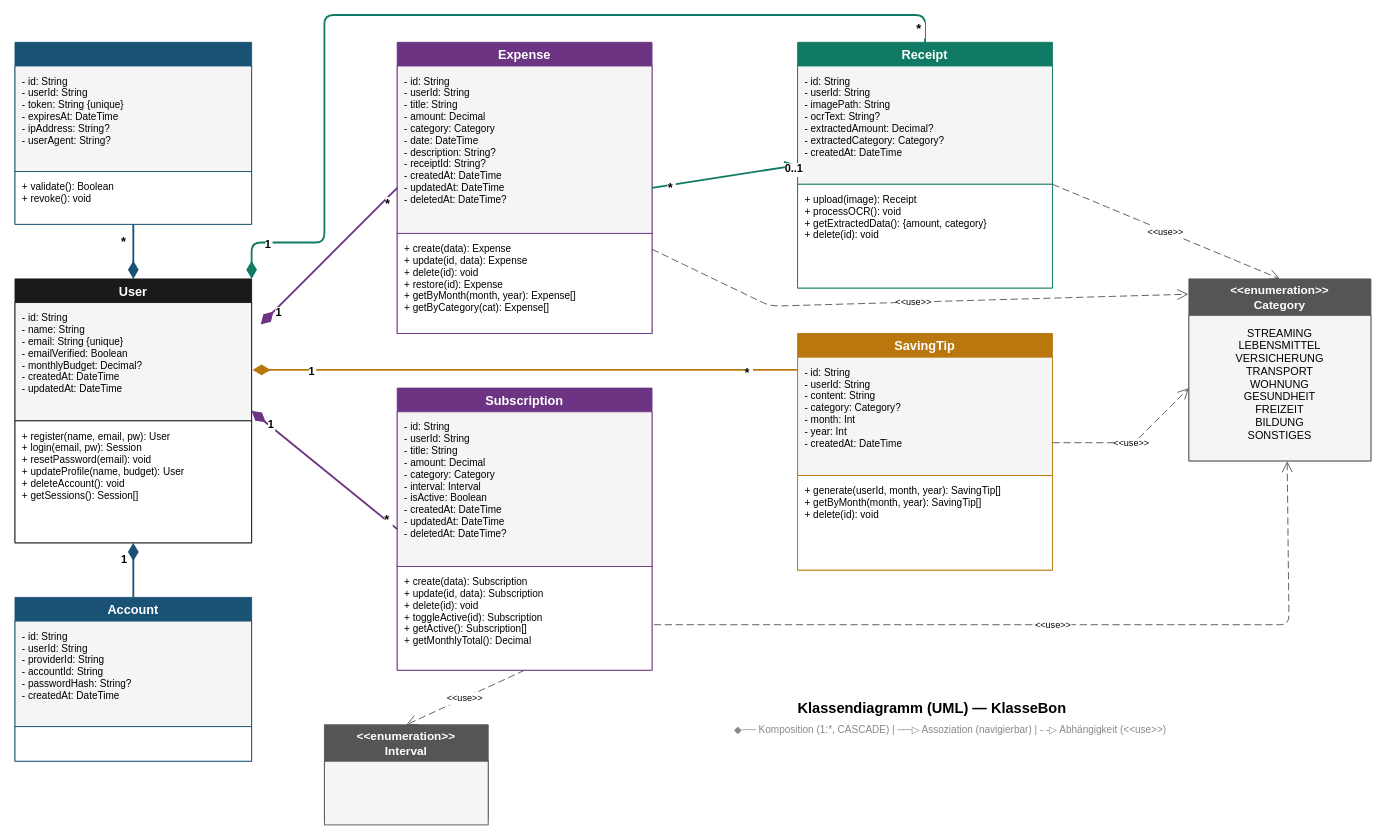
The diagram is 1386 pixels wide and 840 high, and some of its shapes have lost their labels. The shapes that lost their labels are listed below. From the top down, each one's box as (x1, y1, x2, y2) in pixels, then its label:
(14, 41, 252, 224): Session
(14, 726, 252, 761): + verifyPassword(pw): Boolean
(324, 760, 488, 825): WEEKLY MONTHLY YEARLY
